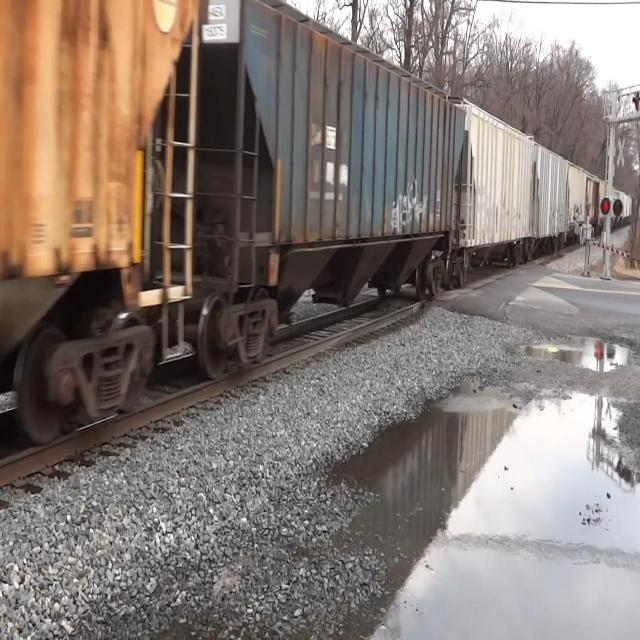hopper: (170, 4, 461, 390), (3, 0, 205, 462), (459, 94, 537, 282)
